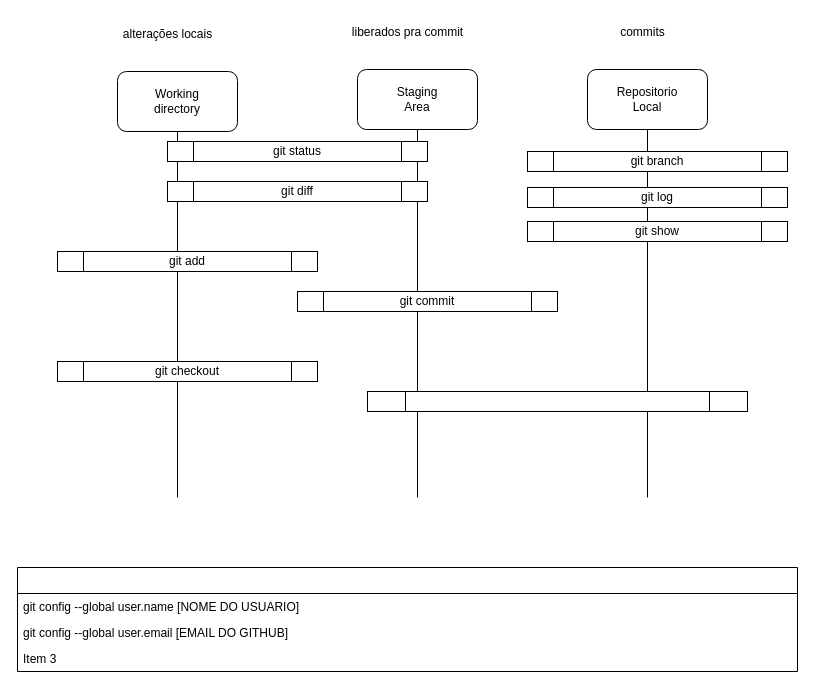
Image size: 815x691. Some labels were removed from this diagram. The box of each missing label's shape, as (x1, y1, x2, y2) in pixels:
git reset: (366, 390, 748, 412)
List: (16, 566, 798, 672)
